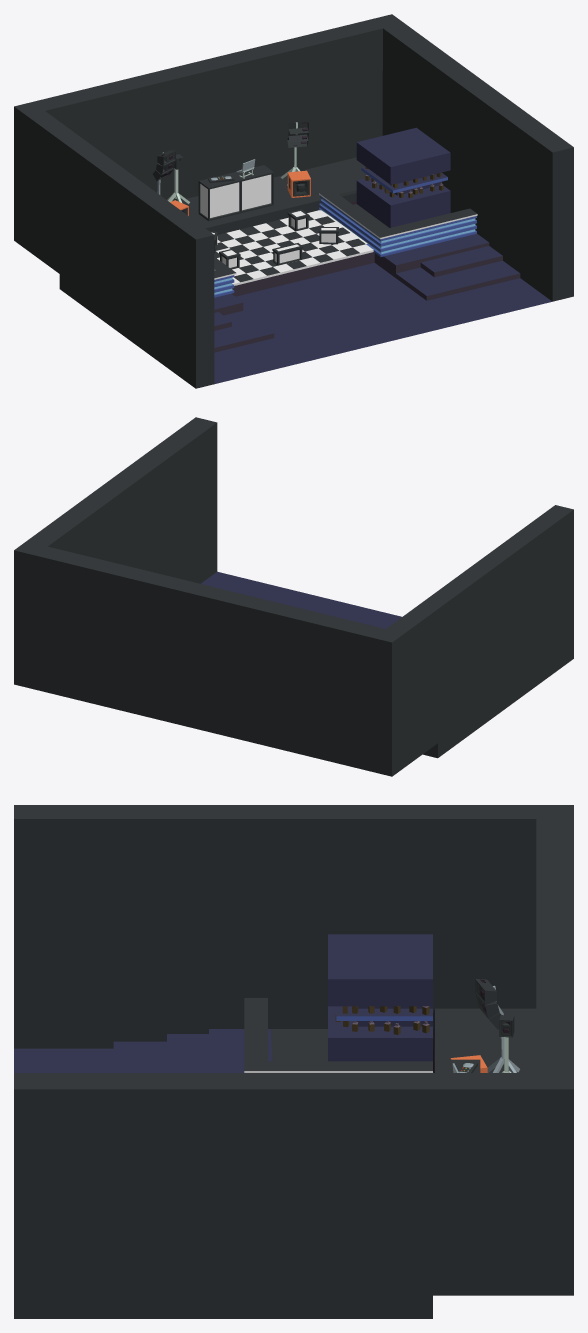
The model's file is LD51ClubGround.fbx.
3 views of the same model, one above another, from view 1: azimuth 30°, elevation 25°; view 2: azimuth 150°, elevation 25°; view 3: azimuth 270°, elevation 25° (orthographic). The views are drawn at different scales.
Parts seen in each view (by area): view 1: Ground_Club, Big_speaker4.002, Table.004; view 2: Ground_Club; view 3: Ground_Club, Speaker.010.
Boxes of the visible parts, bbox=[...] form: Ground_Club: bbox=[14, 14, 573, 388]; Big_speaker4.002: bbox=[287, 170, 310, 197]; Table.004: bbox=[272, 243, 303, 265]; Ground_Club: bbox=[14, 417, 573, 776]; Ground_Club: bbox=[14, 805, 573, 1318]; Speaker.010: bbox=[475, 979, 519, 1072].
Size of the model in its own units: 8983 by 7482 by 3390.
